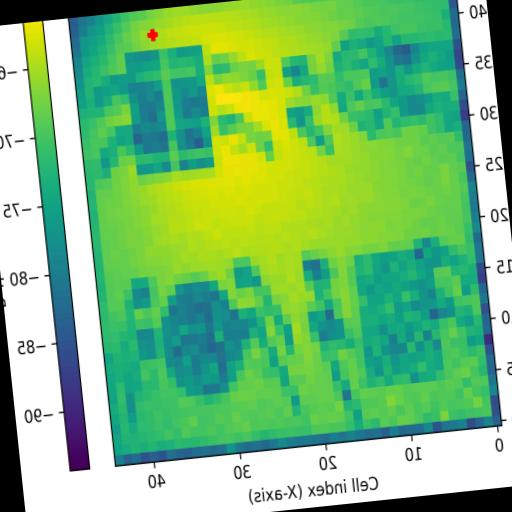Concrete: (124, 44, 214, 176)
Glass: (328, 15, 429, 144)
Metal: (158, 279, 246, 399)
Wood: (354, 246, 444, 387)
